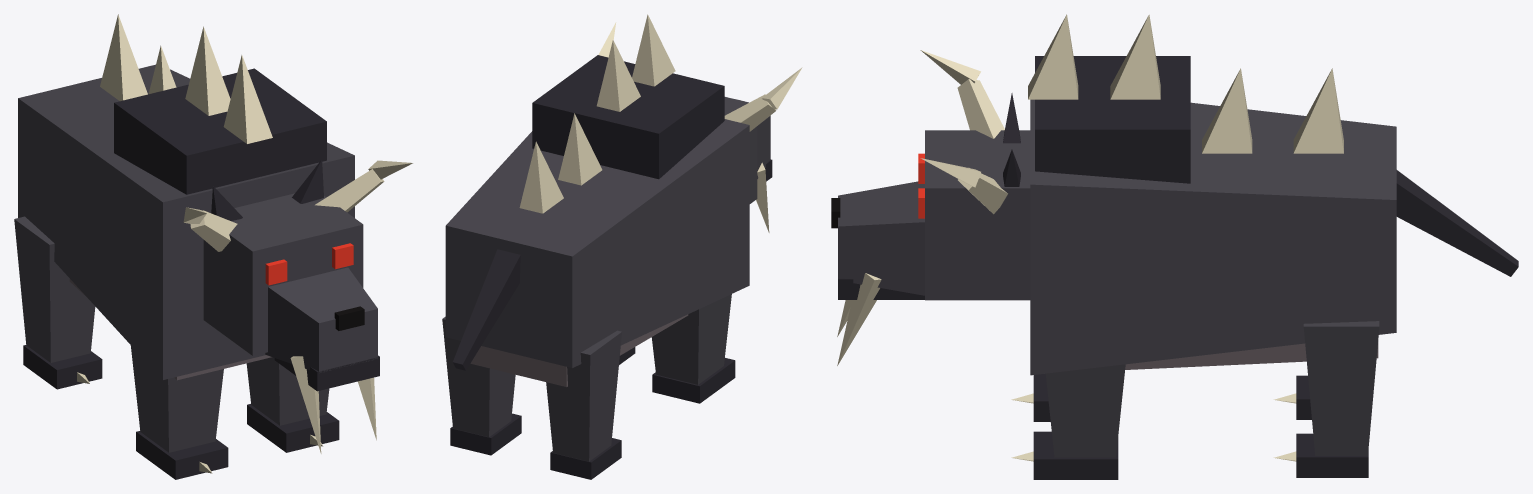
Rendered from MonsterAlpha.obj.
3 views of the same model, side by side, from view 1: azimuth 30°, elevation 25°; view 2: azimuth 150°, elevation 25°; view 3: azimuth 270°, elevation 25° (orthographic). The views are drawn at different scales.
Visible parts, largest first — view 1: Body, Head, LegBL, LegFL, LegFR; view 2: Body, LegBL, LegFL, LegBR, Head, Tail; view 3: Body, Head, LegBR, LegFR, Tail, LegFL, LegBL.
Boxes of the visible parts, left/top/right/bottom form: Body: left=18, top=14, right=354, bottom=380; Head: left=183, top=159, right=412, bottom=453; LegBL: left=14, top=216, right=102, bottom=389; LegFL: left=130, top=345, right=228, bottom=479; LegFR: left=246, top=357, right=339, bottom=452; Body: left=445, top=14, right=749, bottom=386; LegBL: left=546, top=330, right=621, bottom=479; LegFL: left=651, top=294, right=735, bottom=403; LegBR: left=442, top=316, right=521, bottom=455; Head: left=598, top=22, right=802, bottom=232; Tail: left=452, top=249, right=520, bottom=370; Body: left=1028, top=14, right=1396, bottom=375; Head: left=831, top=50, right=1030, bottom=365; LegBR: left=1273, top=321, right=1379, bottom=477; LegFR: left=1011, top=364, right=1125, bottom=479; Tail: left=1396, top=170, right=1518, bottom=276; LegFL: left=1011, top=373, right=1050, bottom=421; LegBL: left=1273, top=375, right=1311, bottom=419.
Bounding box in the file's own units: 0.5592 × 1.02 × 1.5.
